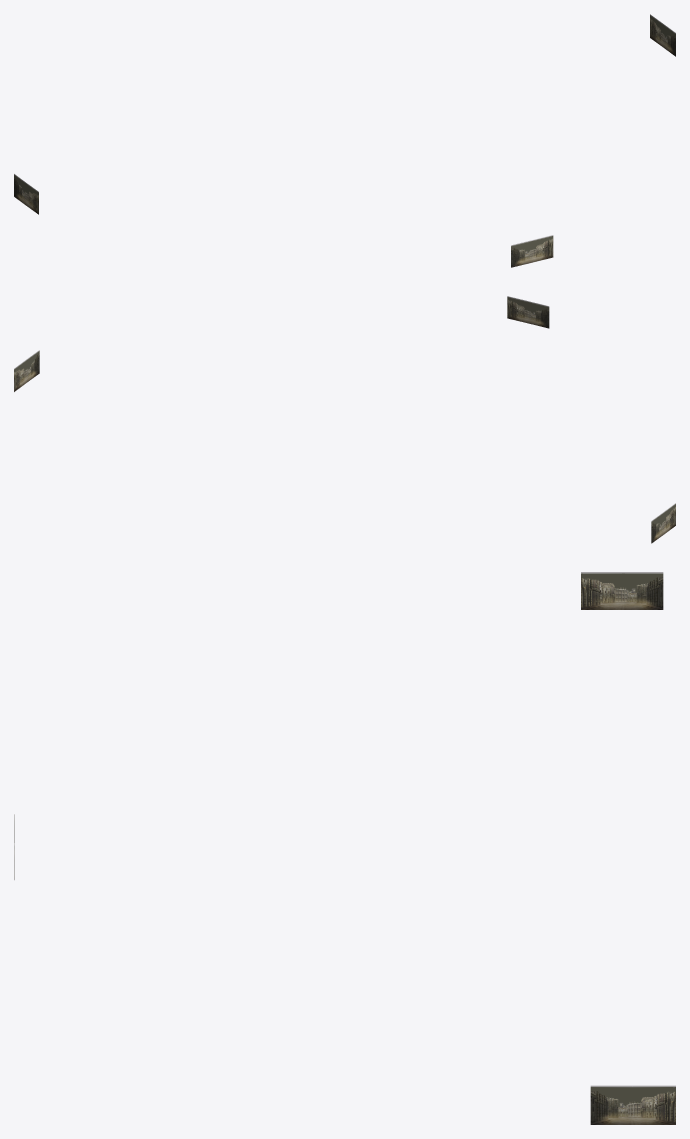
3 renders of one model, top to bottom at view 1: azimuth 30°, elevation 25°; view 2: azimuth 150°, elevation 25°; view 3: azimuth 270°, elevation 25°, orthographic. The views are drawn at different scales.
Visible parts, largest first — view 1: OM_60_wv_bg01D; view 2: OM_60_wv_bg01D; view 3: OM_60_wv_bg01D.
Boxes of the visible parts, x1,y1,x2,y2 form: OM_60_wv_bg01D: [14, 14, 675, 267]; OM_60_wv_bg01D: [14, 296, 675, 543]; OM_60_wv_bg01D: [14, 572, 675, 1124].
Bounding box in the file's own units: 336 × 11.96 × 183.
Materials: 1 (1 with a texture image).
